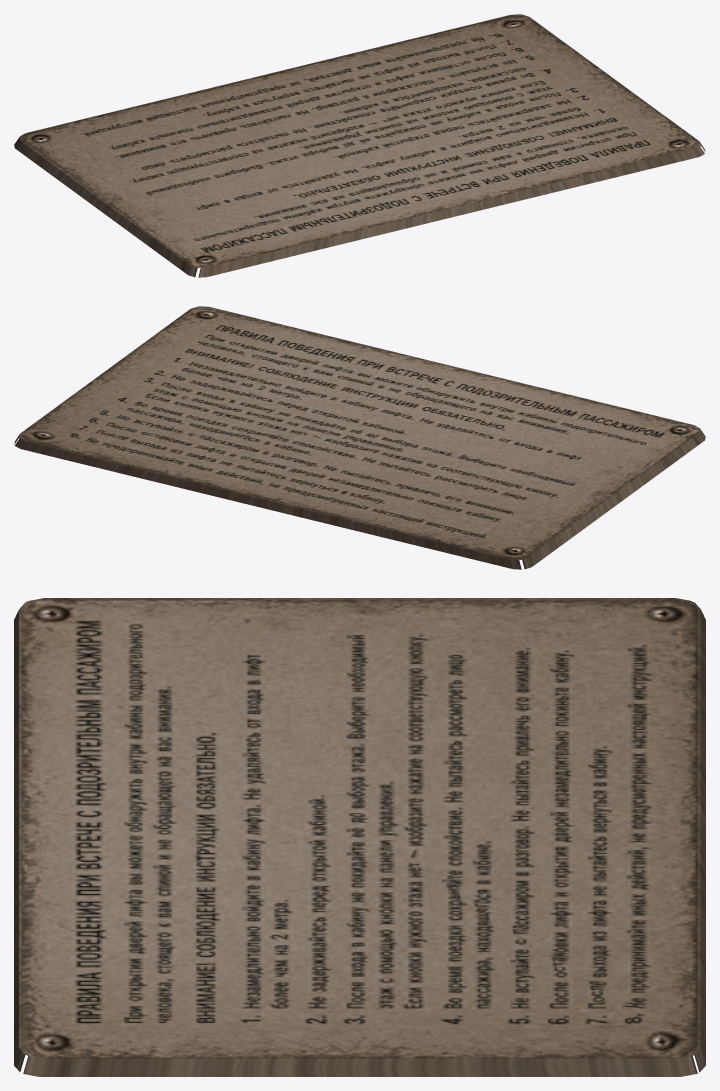
The model's file is WarningSign_Elevator.fbx.
3 views of the same model, one above another, from view 1: azimuth 30°, elevation 25°; view 2: azimuth 150°, elevation 25°; view 3: azimuth 270°, elevation 25° (orthographic). The views are drawn at different scales.
Parts seen in each view (by area): view 1: Плоскость; view 2: Плоскость; view 3: Плоскость.
Part boxes in pixels (bbox=[...]): Плоскость: bbox=[14, 14, 705, 277]; Плоскость: bbox=[14, 306, 705, 569]; Плоскость: bbox=[14, 598, 705, 1076].
Bounding box in the file's own units: 80 × 1.14 × 50.
